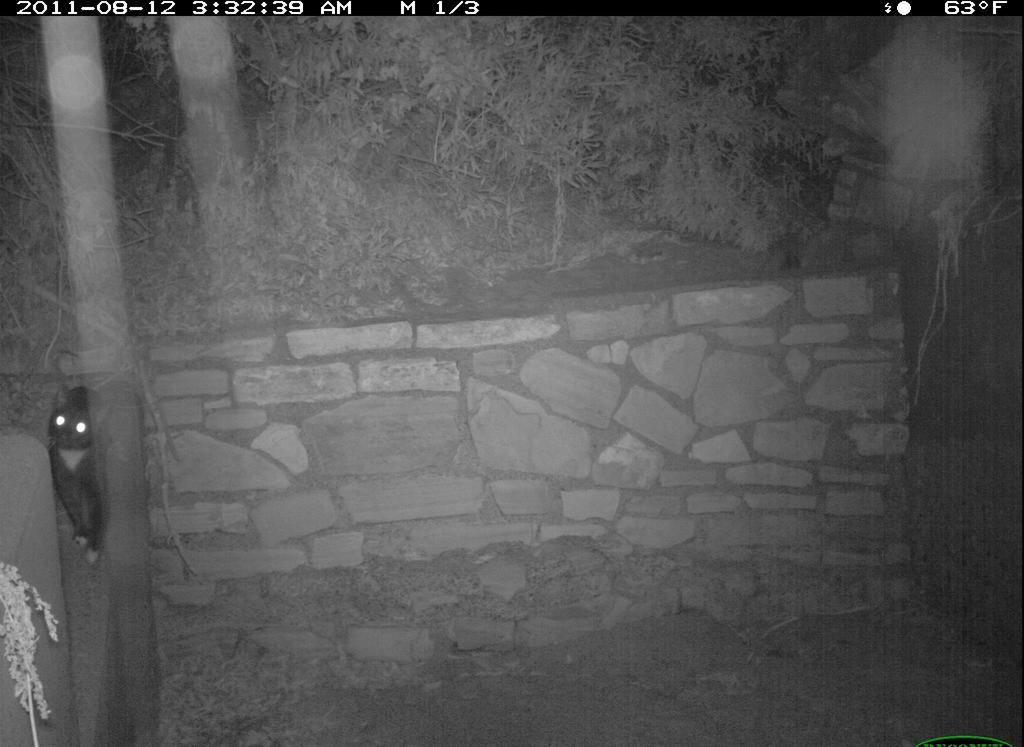cat: (44, 372, 118, 566)
